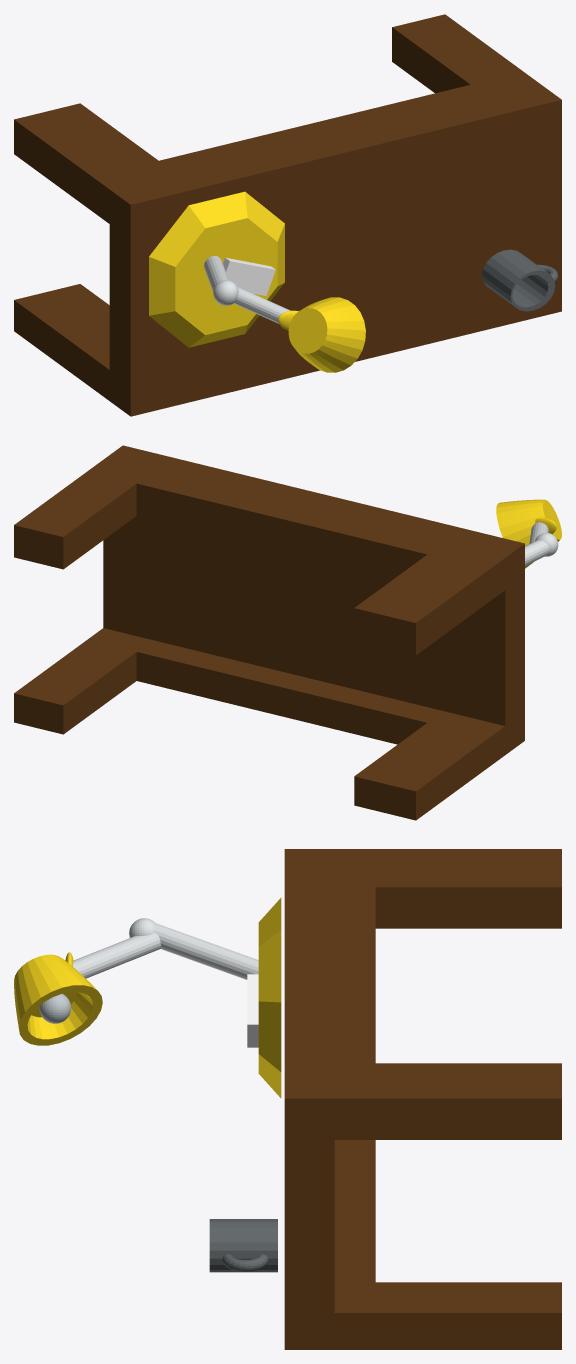
The model's file is tinker.obj.
3 renders of one model, top to bottom at view 1: azimuth 30°, elevation 25°; view 2: azimuth 150°, elevation 25°; view 3: azimuth 270°, elevation 25°, orthographic. The views are drawn at different scales.
Visible parts, largest first — view 1: group_0_6306067, group_0_16768282, group_0_6383466, group_0_14541540, group_0_16448250; view 2: group_0_6306067, group_0_16768282, group_0_14541540; view 3: group_0_6306067, group_0_16768282, group_0_14541540, group_0_6383466, group_0_16448250, group_0_12568524.
Boxes of the visible parts, box(x1,y1,x2,y2) form: group_0_6306067: box(14, 14, 561, 416); group_0_16768282: box(149, 191, 365, 372); group_0_6383466: box(482, 249, 558, 311); group_0_14541540: box(204, 256, 290, 323); group_0_16448250: box(223, 257, 275, 295); group_0_6306067: box(14, 445, 524, 820); group_0_16768282: box(496, 499, 561, 568); group_0_14541540: box(525, 522, 558, 565); group_0_6306067: box(284, 849, 561, 1349); group_0_16768282: box(14, 897, 281, 1098); group_0_14541540: box(73, 918, 258, 979); group_0_6383466: box(209, 1219, 277, 1272); group_0_16448250: box(247, 974, 258, 1047); group_0_12568524: box(39, 993, 70, 1023).
Size of the model in its own units: 52 by 24.4 by 48.23.
